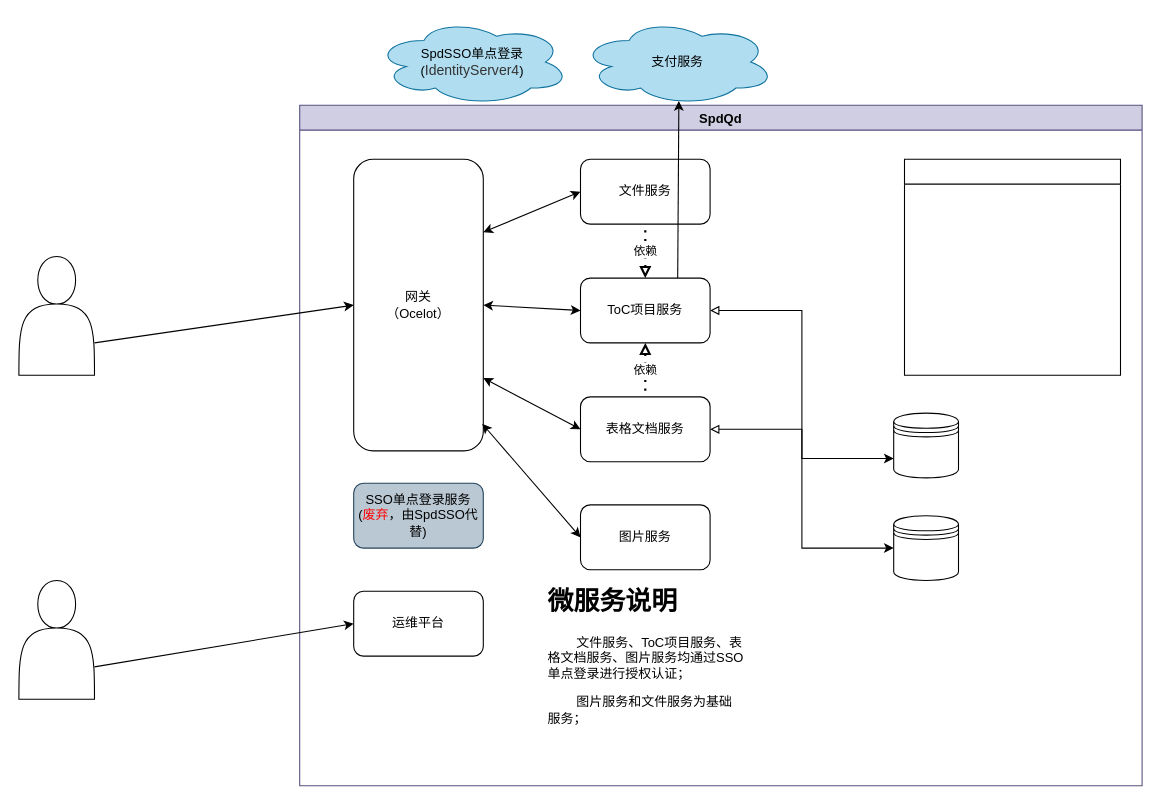
The diagram is 1161 pixels wide and 805 high, and some of its shapes have lost their labels. Here are the shapes that lost their labels. From the top down, the centre of each, then its label:
At [1011,266]: "基础组件".
At [56,315]: "普通用户".
At [926,445]: "Postgresql".
At [926,547]: "MongoDB".
At [56,639]: "运维与表格模板录入人员".
